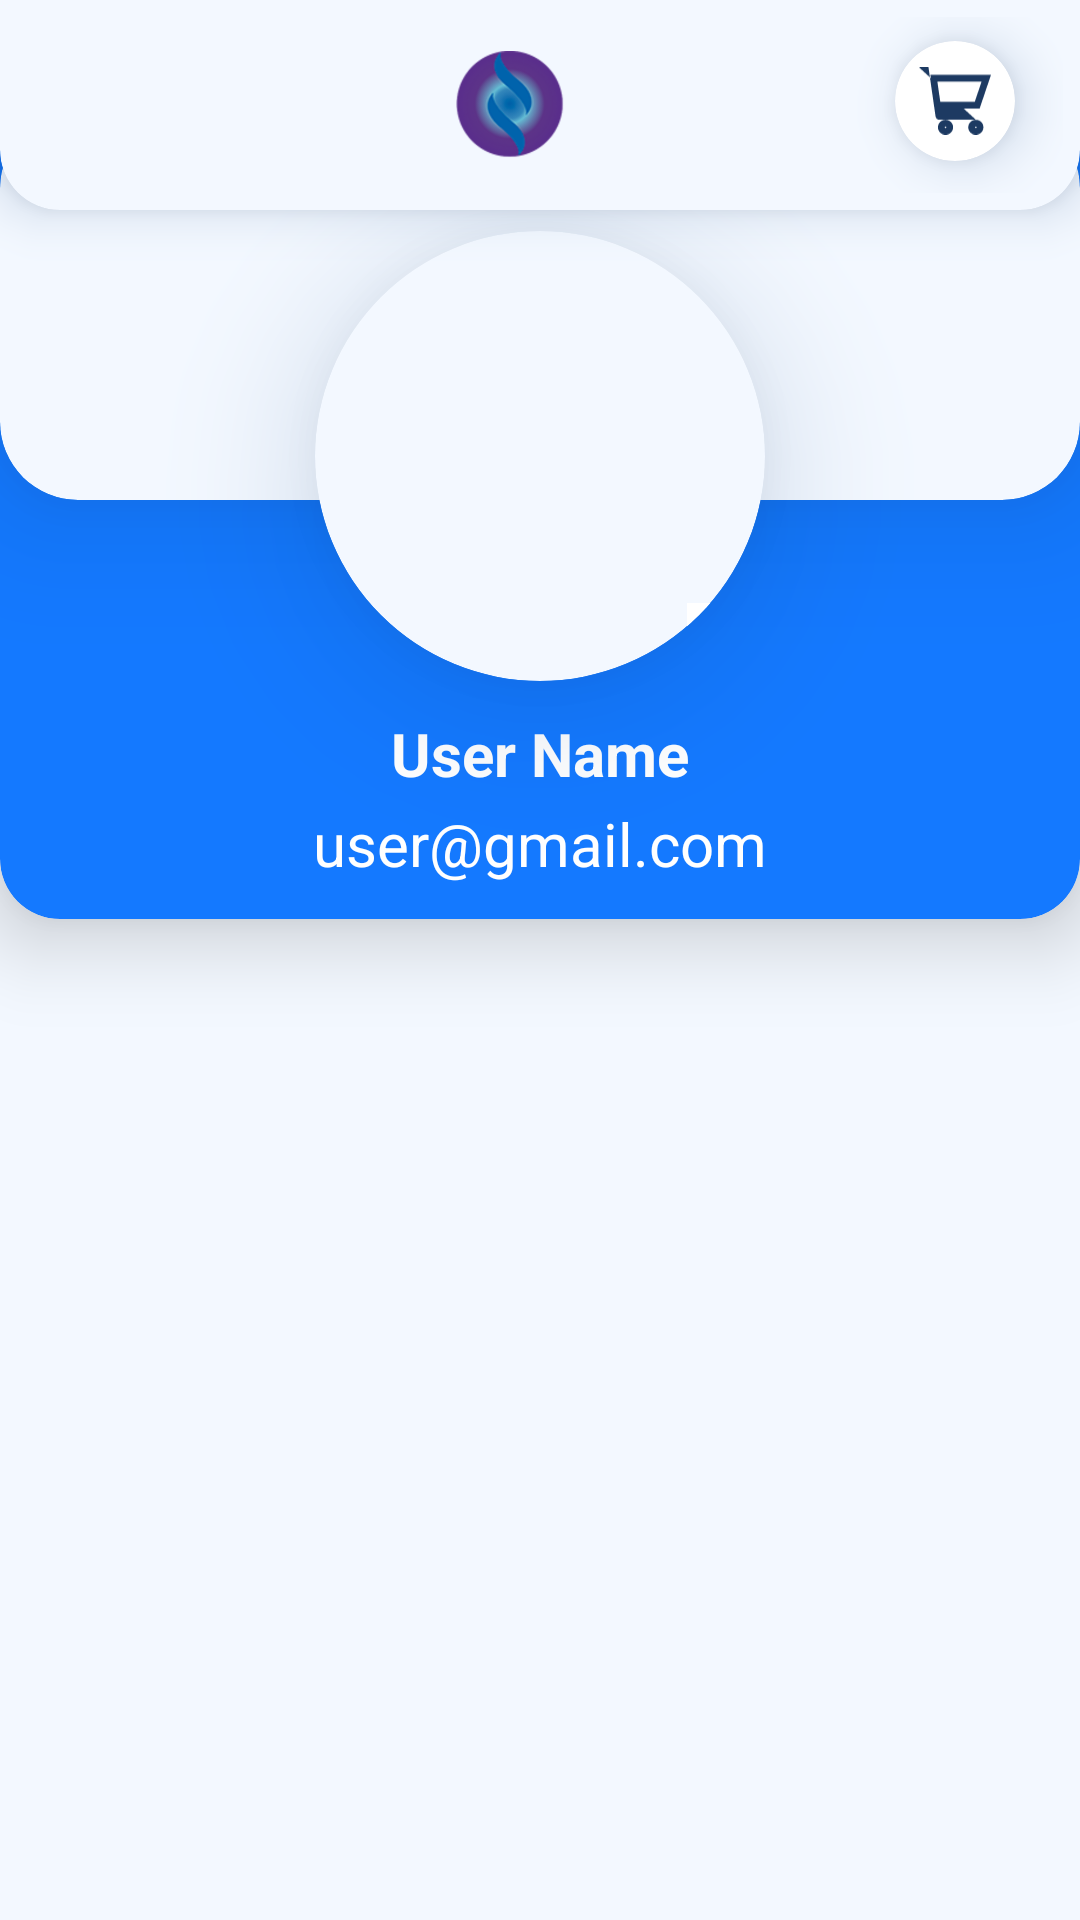

Locate icon controls on the screen. Image size 1080px x 1920px, boxes as (x1, y1, x2, y2).
cart: (919, 67, 991, 135)
